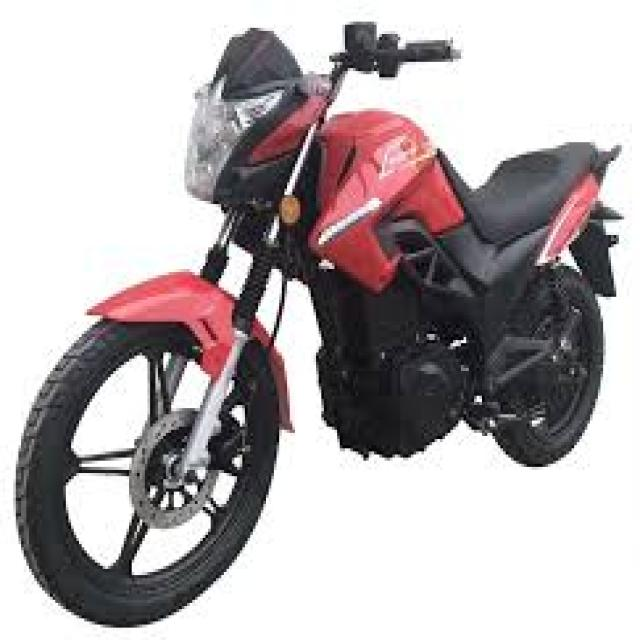bodaboda: (7, 8, 634, 630)
